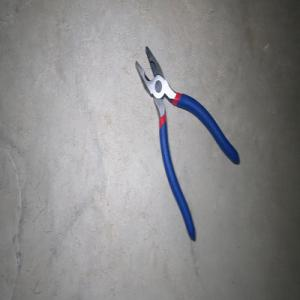Pliers: (135, 45, 239, 241)
